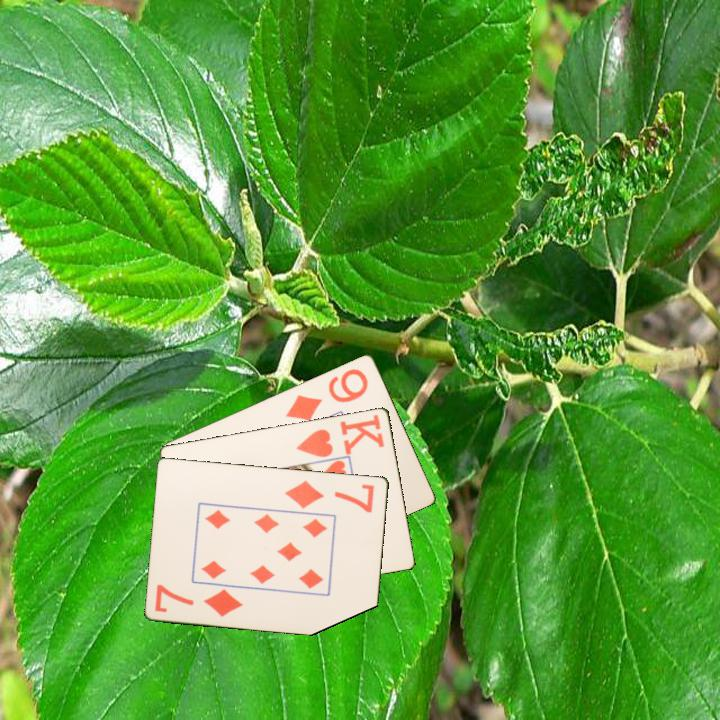7d: (151, 580, 246, 620), (282, 476, 378, 515)
9d: (282, 365, 371, 424)
Kh: (293, 410, 388, 460)
